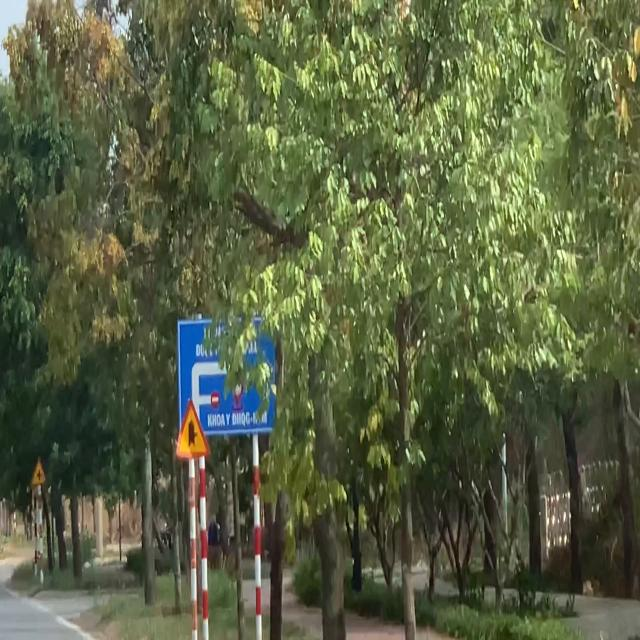Giao voi duong khong uu tien: (173, 397, 212, 462)
